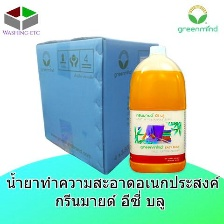book: (31, 34, 162, 178)
cleaning_solution: (126, 44, 190, 174)
